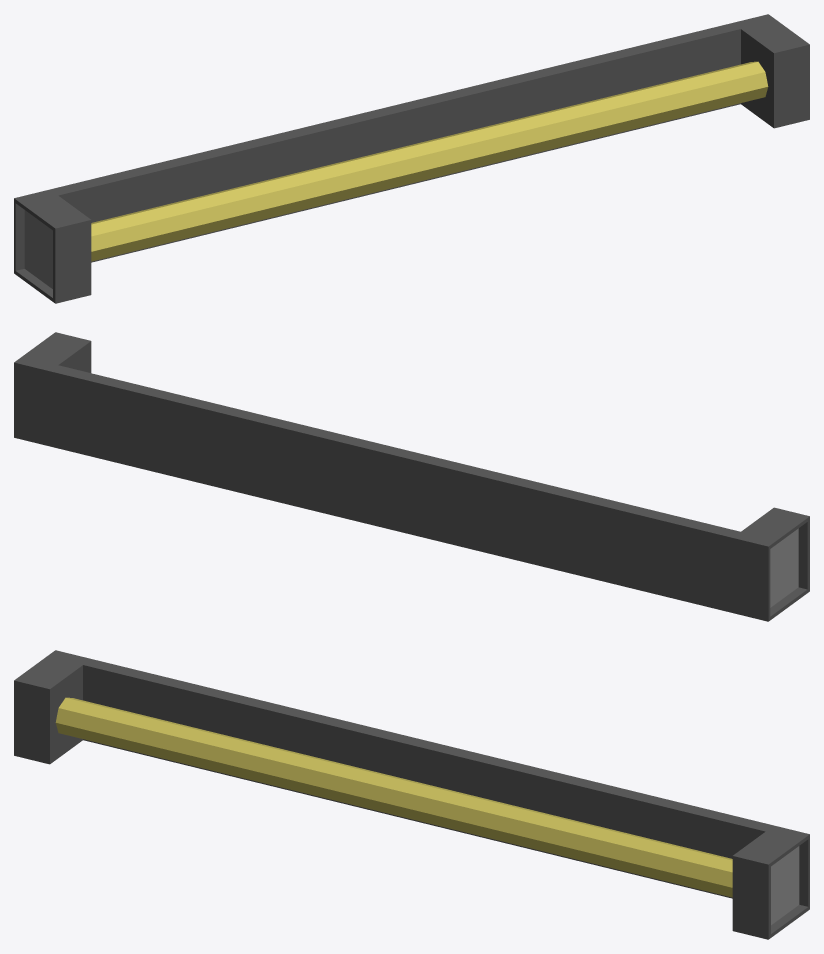
File: Barber Mirror Light.fbx
The picture shows the model from 3 angles, top to bottom: view 1: azimuth 30°, elevation 25°; view 2: azimuth 150°, elevation 25°; view 3: azimuth 330°, elevation 25°; orthographic projection.
Visible parts, largest first — view 1: Barber Mirror Light; view 2: Barber Mirror Light; view 3: Barber Mirror Light.
Part boxes in pixels (x1,y1,x2,y2): Barber Mirror Light: (14, 14, 809, 303); Barber Mirror Light: (14, 332, 809, 621); Barber Mirror Light: (14, 650, 809, 939).
Size of the model in its own units: 840 by 80 by 80.
